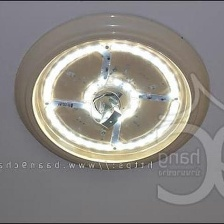light_bulb: (38, 38, 184, 156)
